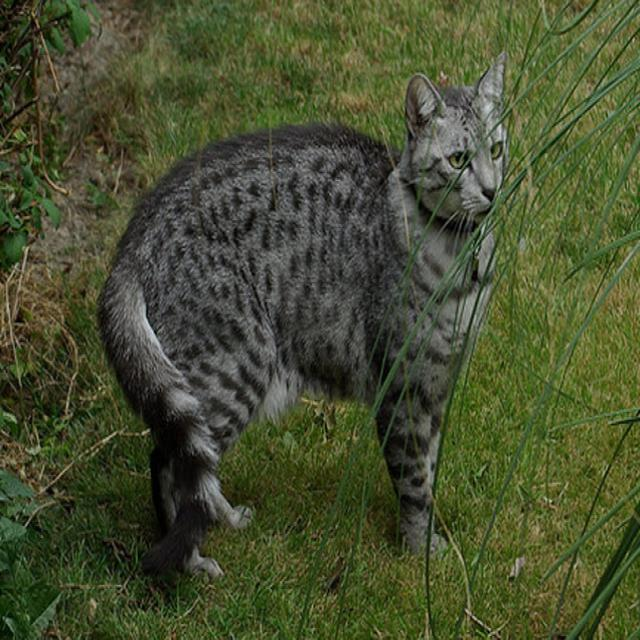Egyptian_Mau: (404, 48, 504, 220)
